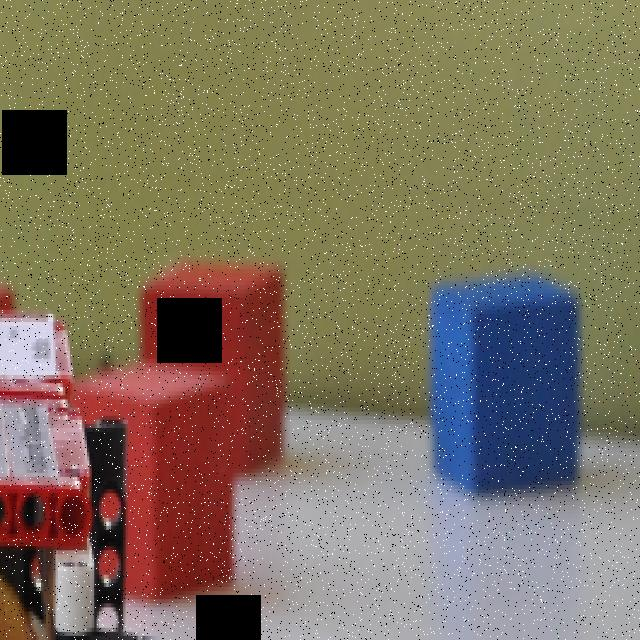bluecube: (433, 270, 584, 495)
red cube: (67, 354, 231, 597), (141, 258, 287, 480)
